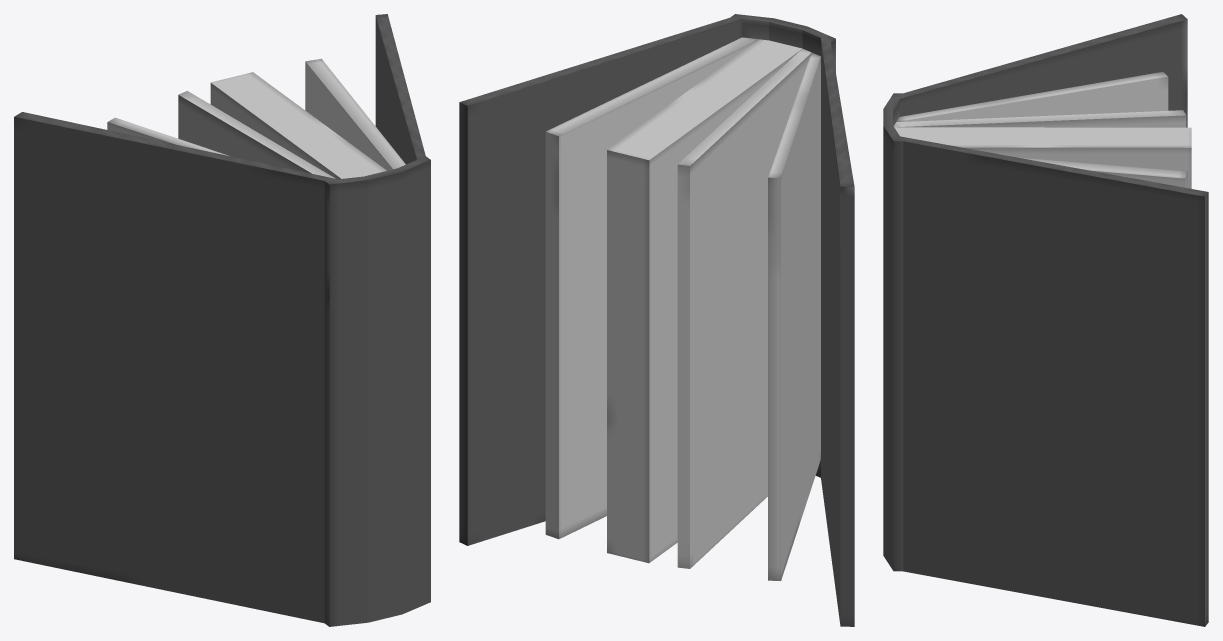
Rendered from Book.fbx.
3 renders of one model, left to right at view 1: azimuth 30°, elevation 25°; view 2: azimuth 150°, elevation 25°; view 3: azimuth 270°, elevation 25°, orthographic. The views are drawn at different scales.
Visible parts, largest first — view 1: Book; view 2: Book; view 3: Book.
Part boxes in pixels (bbox=[...]): Book: bbox=[14, 14, 430, 626]; Book: bbox=[459, 14, 854, 626]; Book: bbox=[883, 14, 1208, 626].
Bounding box in the file's own units: 87.29 × 95.74 × 65.7.
